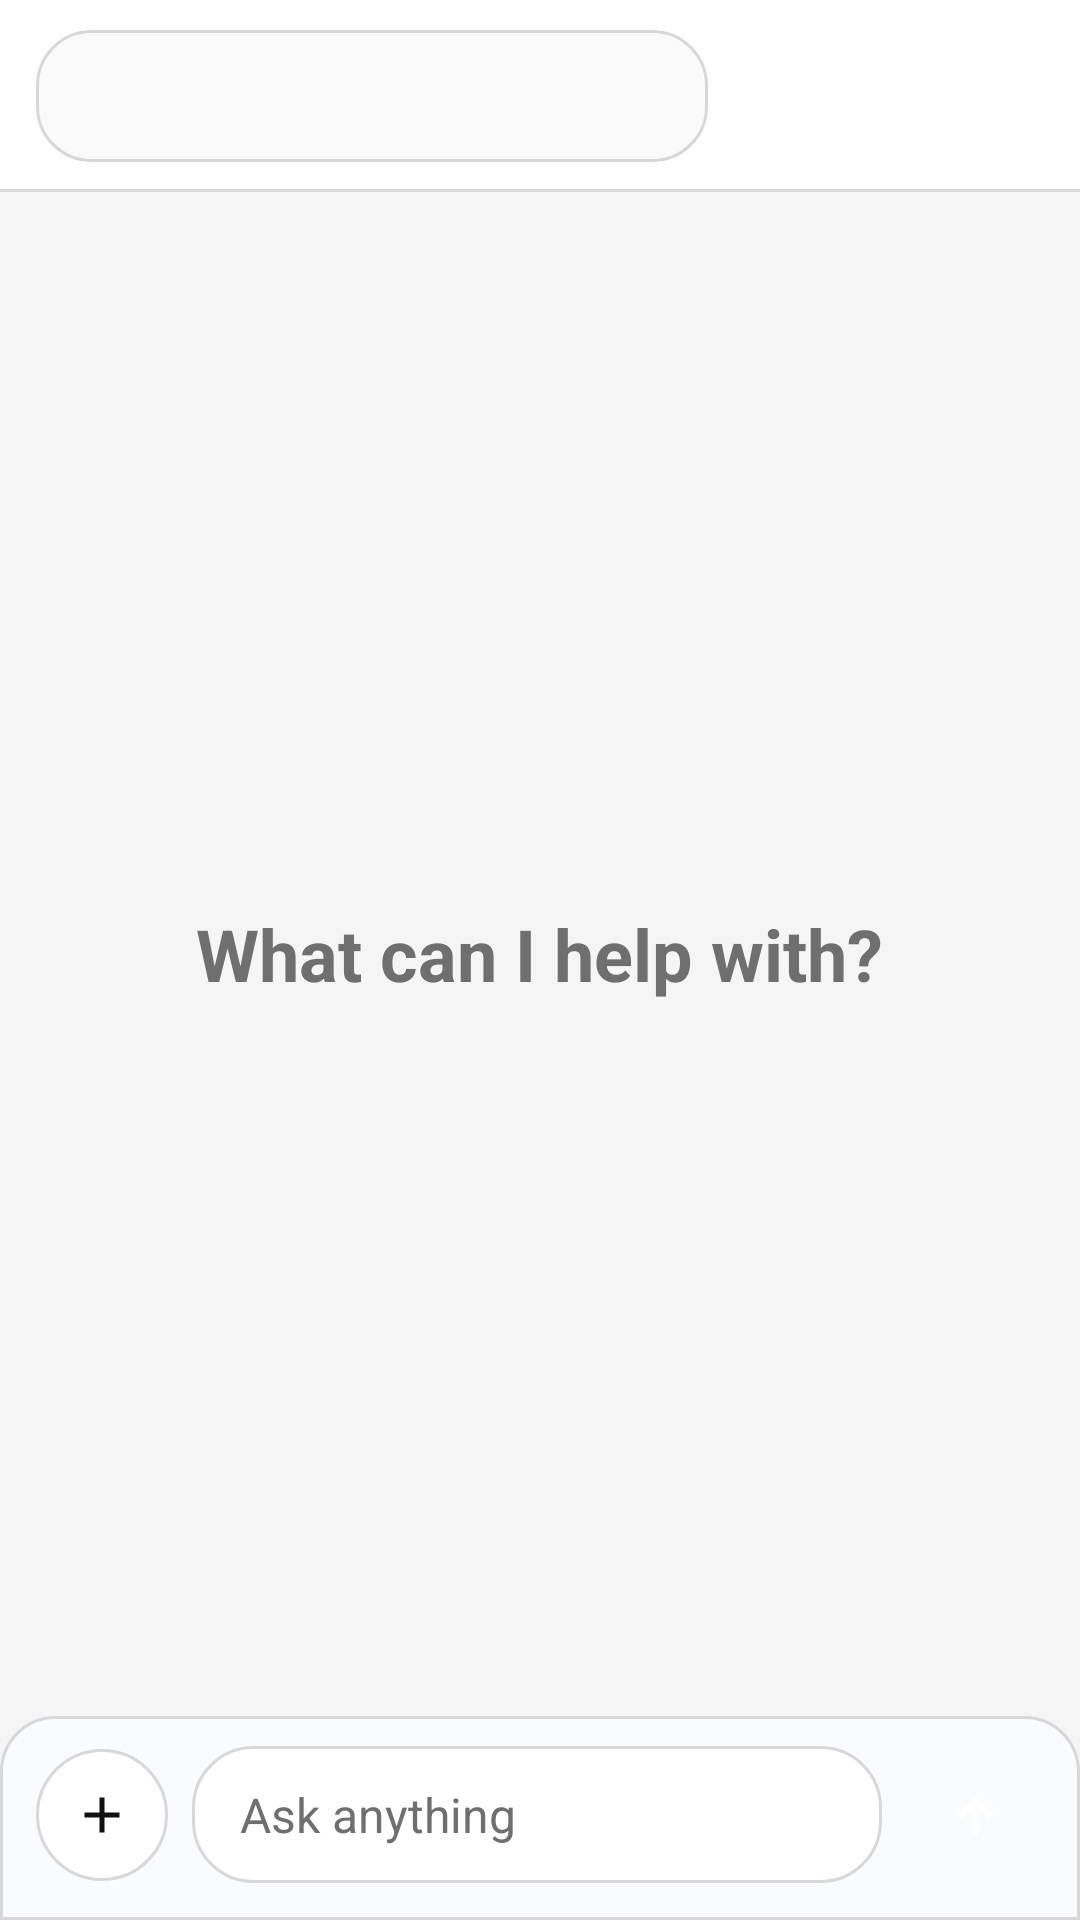

Named icons in this screenshot (1080x1920) and their bounding boxes, (x1, y1, x2, y2):
Attach an image: (36, 1749, 168, 1881)
